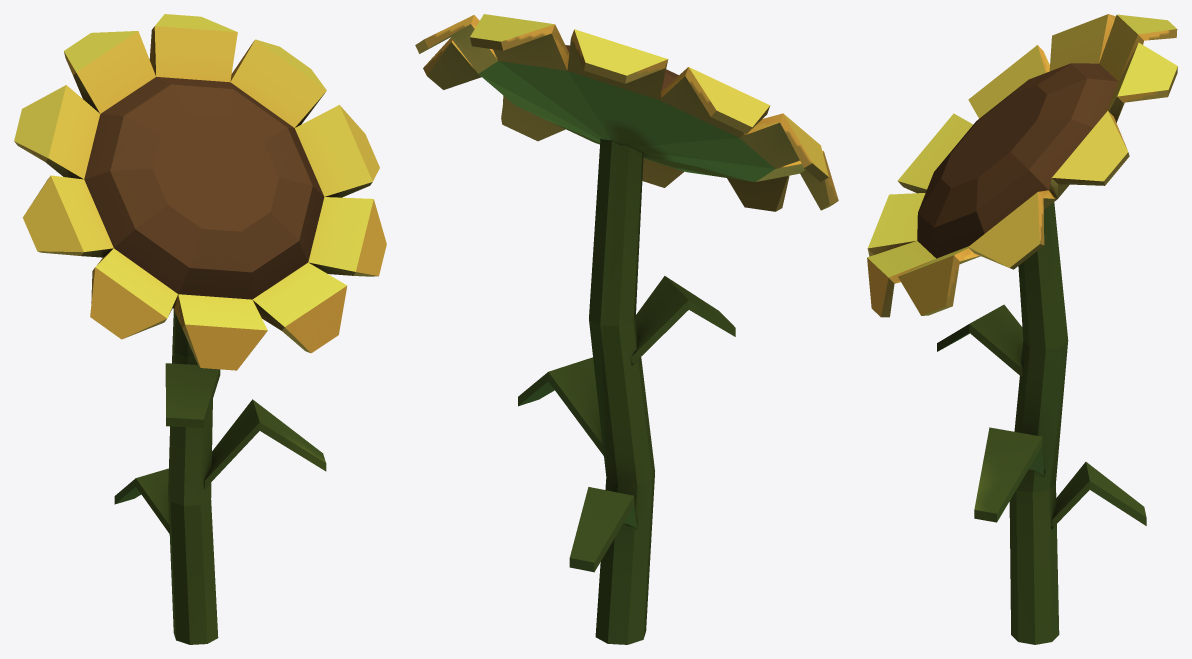
The model's file is sunflower.gltf.
3 renders of one model, left to right at view 1: azimuth 30°, elevation 25°; view 2: azimuth 150°, elevation 25°; view 3: azimuth 270°, elevation 25°, orthographic. The views are drawn at different scales.
Parts seen in each view (by area): view 1: sunflower; view 2: sunflower; view 3: sunflower.
Boxes of the visible parts, box(x1,y1,x2,y2) form: sunflower: box(14, 14, 386, 644); sunflower: box(415, 14, 838, 644); sunflower: box(867, 14, 1177, 644).
Bounding box in the file's own units: 0.3645 × 0.5804 × 0.2742.
1 material, 1 textured.
